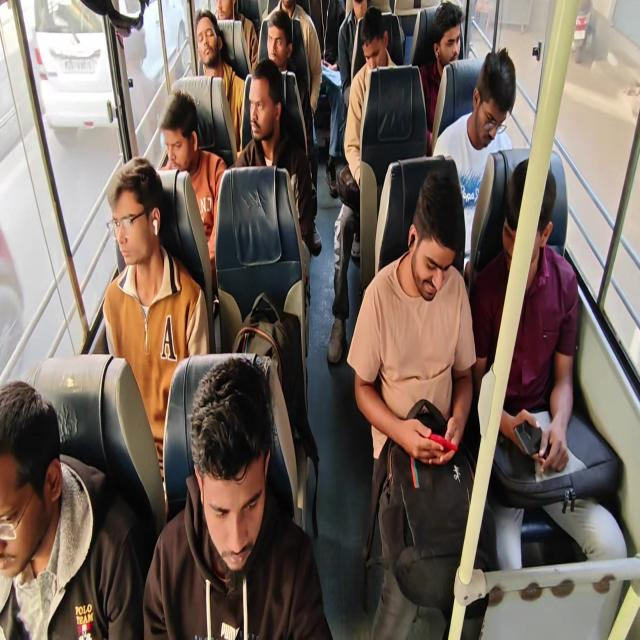person: (346, 168, 491, 638), (469, 157, 627, 574), (142, 355, 333, 639), (0, 379, 144, 639), (102, 157, 209, 486), (327, 6, 398, 363), (432, 46, 516, 276), (234, 58, 319, 256), (159, 88, 227, 296), (193, 8, 246, 151), (418, 0, 463, 148), (337, 0, 370, 111), (213, 0, 258, 79)
